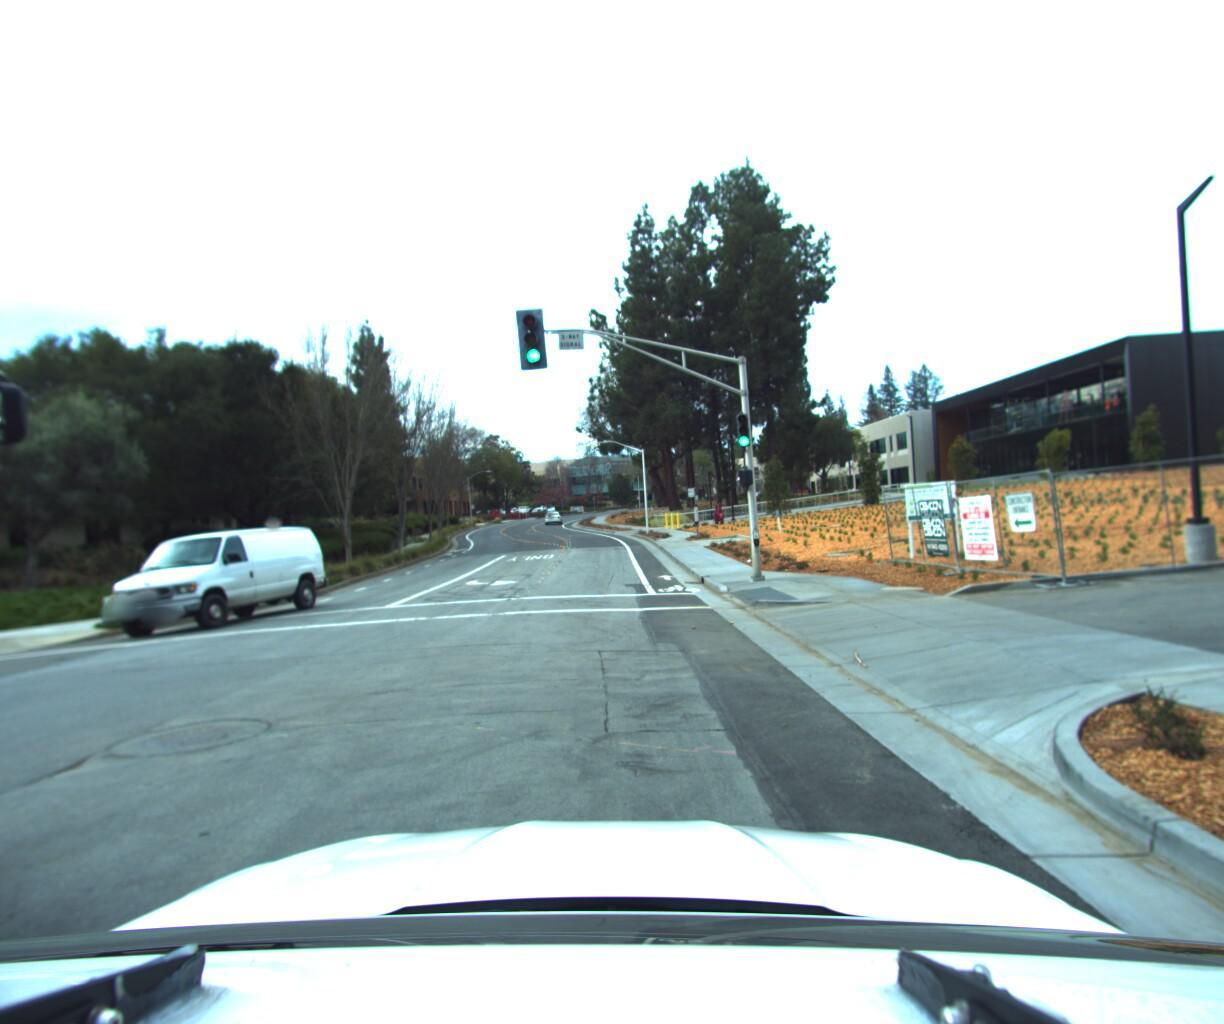car: (91, 519, 336, 645)
